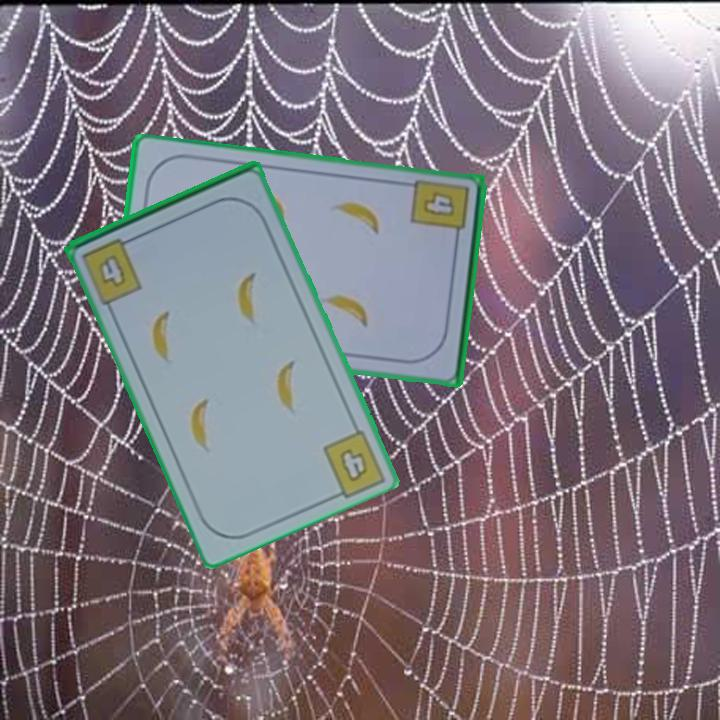4b: (78, 233, 146, 306), (407, 176, 472, 246), (336, 445, 372, 485)
